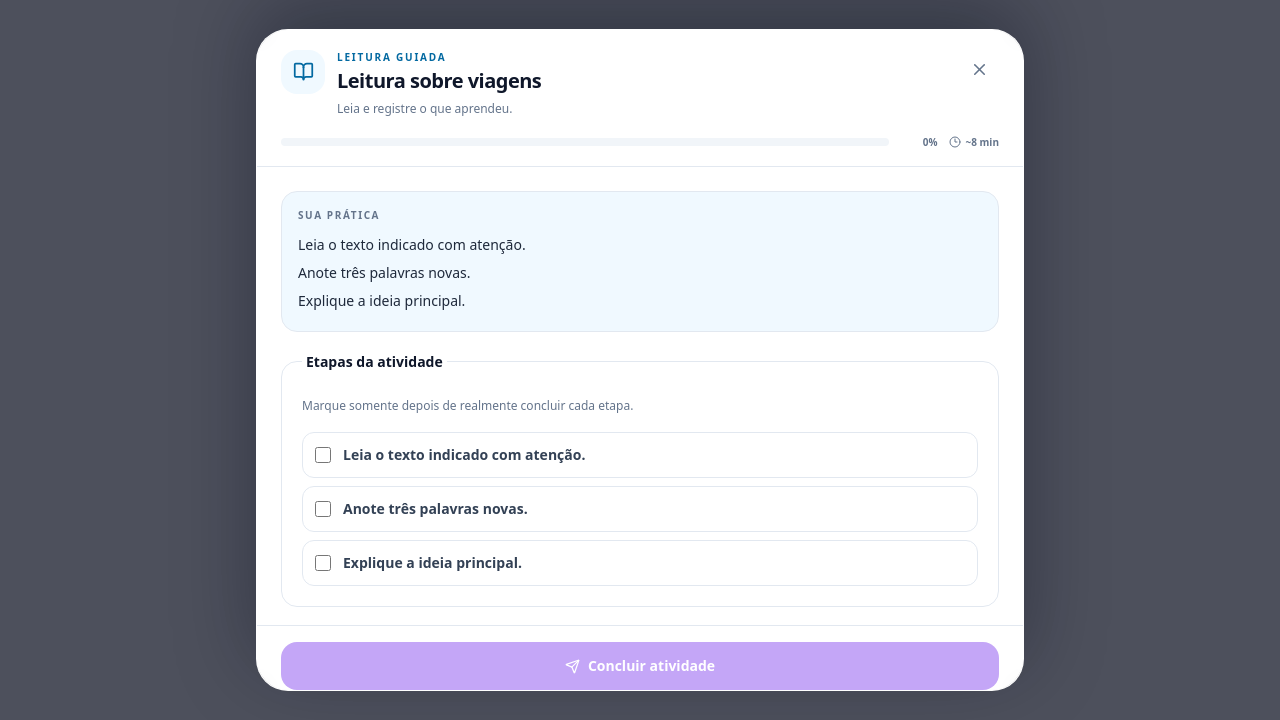
ComplementaryActivityPlayer › turns legacy content into evidence instead of allowing blind completion
Expected: the dialog "Leitura sobre viagens" is shown, x1=256 y1=29 x2=1024 y2=691
Expected: the text "~8 min" is shown, x1=950 y1=135 x2=999 y2=150
Click the checkbox labelled "Leia o texto indicado com atenção.". click: (323,455)
box: x1=315 y1=447 x2=331 y2=463
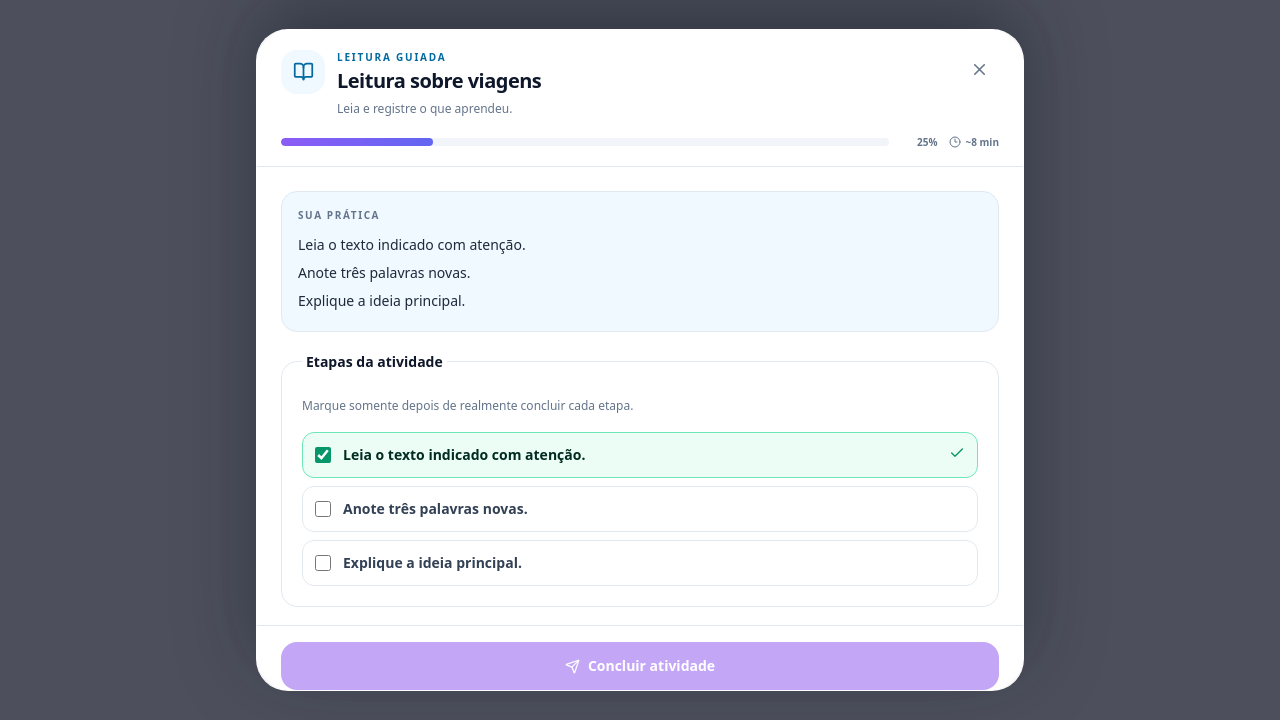
Click the checkbox labelled "Anote três palavras novas.". click: (323,509)
box: x1=315 y1=501 x2=331 y2=517
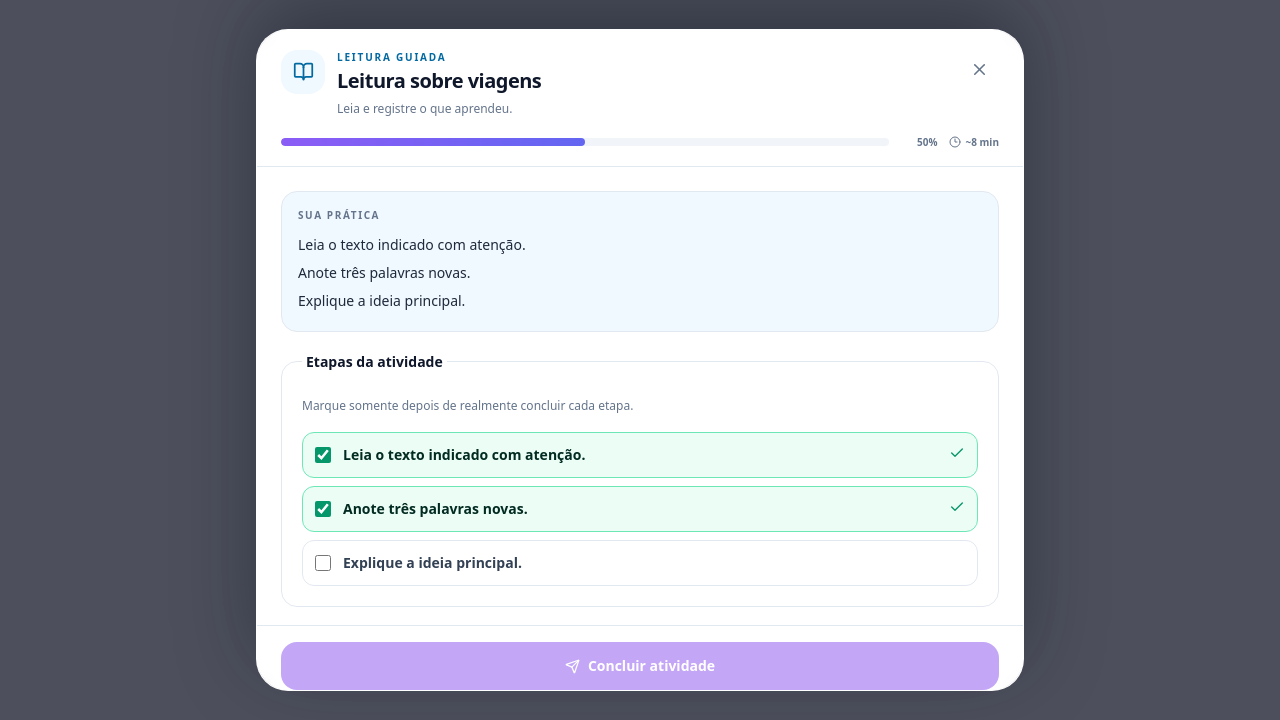
Click the checkbox labelled "Explique a ideia principal.". click: (323,563)
box: x1=315 y1=555 x2=331 y2=571
(page scrolled)
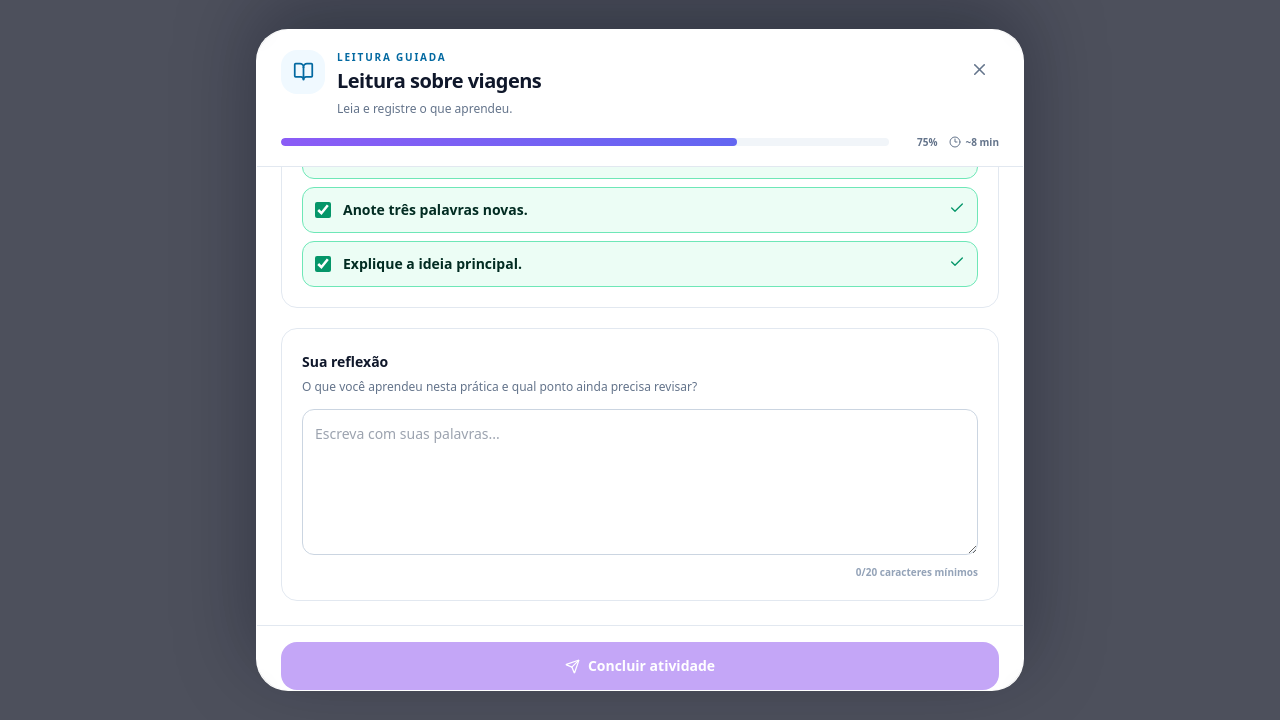
Type "Curta demais" into the text box labelled "Sua reflexão". click: (640,482)
box: x1=302 y1=409 x2=978 y2=555
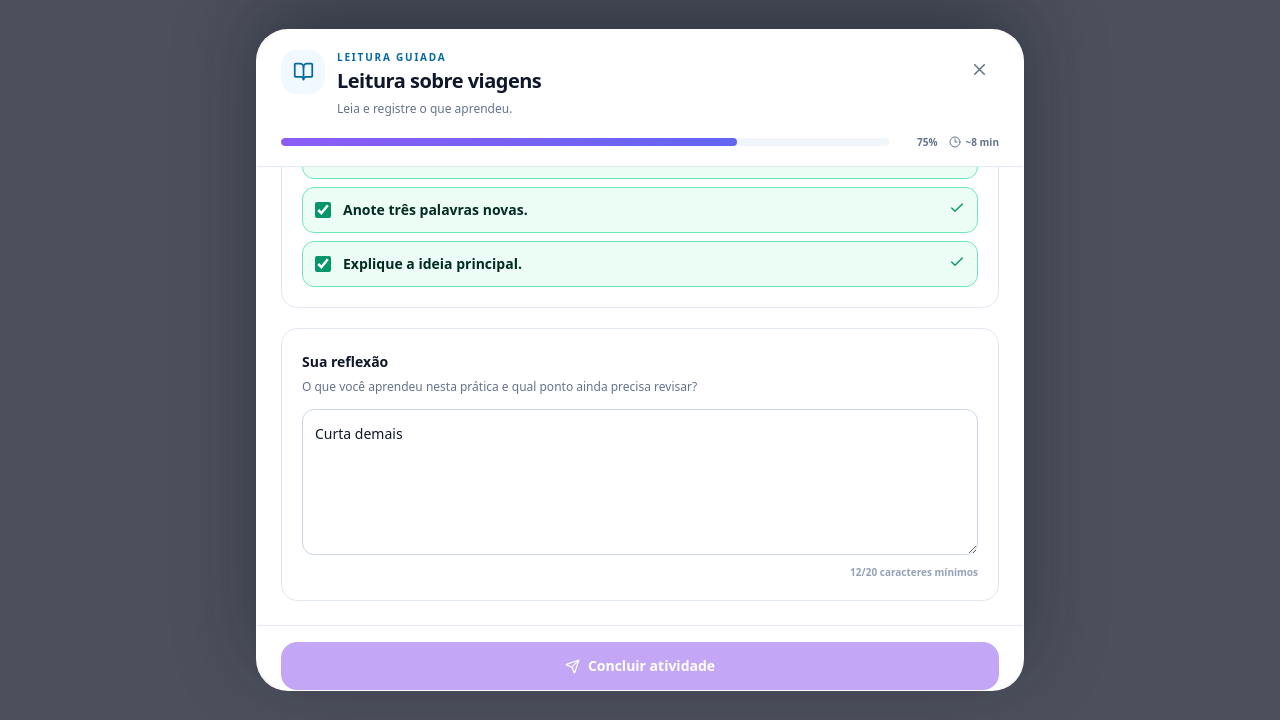
Expected: the button "Concluir atividade" is disabled, x1=281 y1=642 x2=999 y2=690
Replace the text in the text box labelled "Sua reflexão" with "Aprendi novas palavras e preciso revisar a ideia principal.". click: (640,482)
box: x1=302 y1=409 x2=978 y2=555
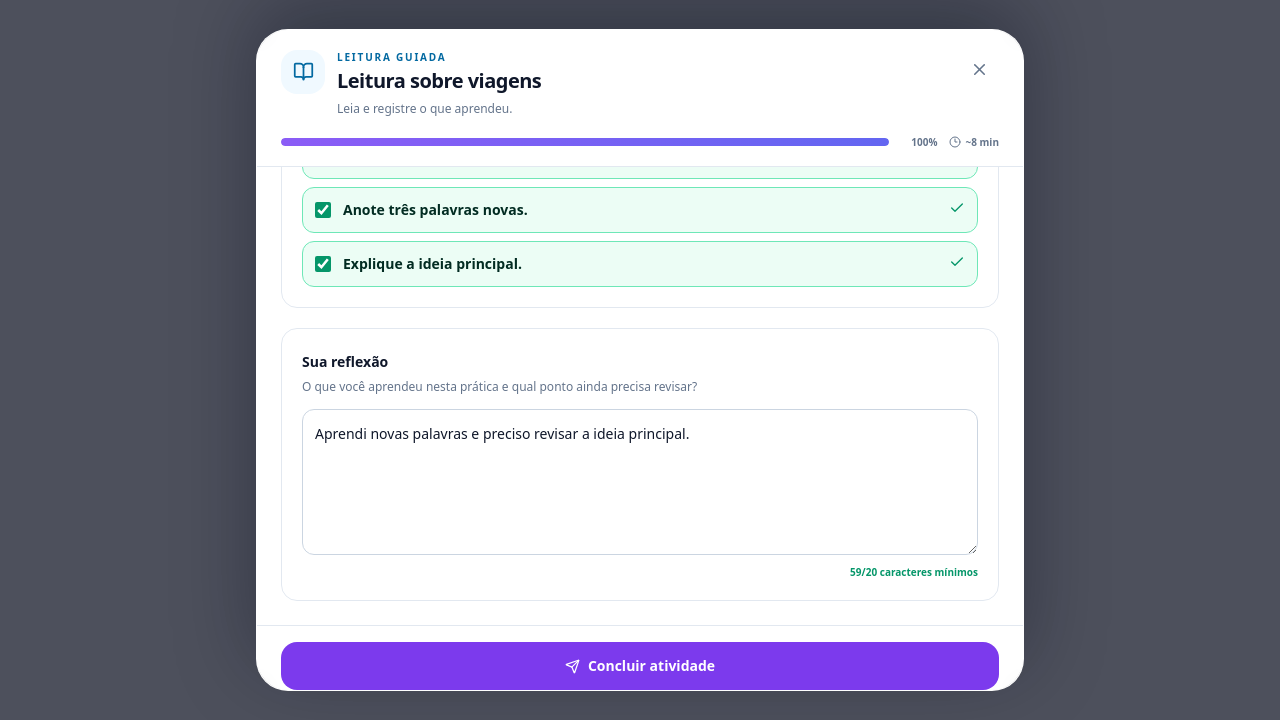
Now the button "Concluir atividade" is enabled
Click the button "Concluir atividade". click: (640,666)
box: x1=281 y1=642 x2=999 y2=690
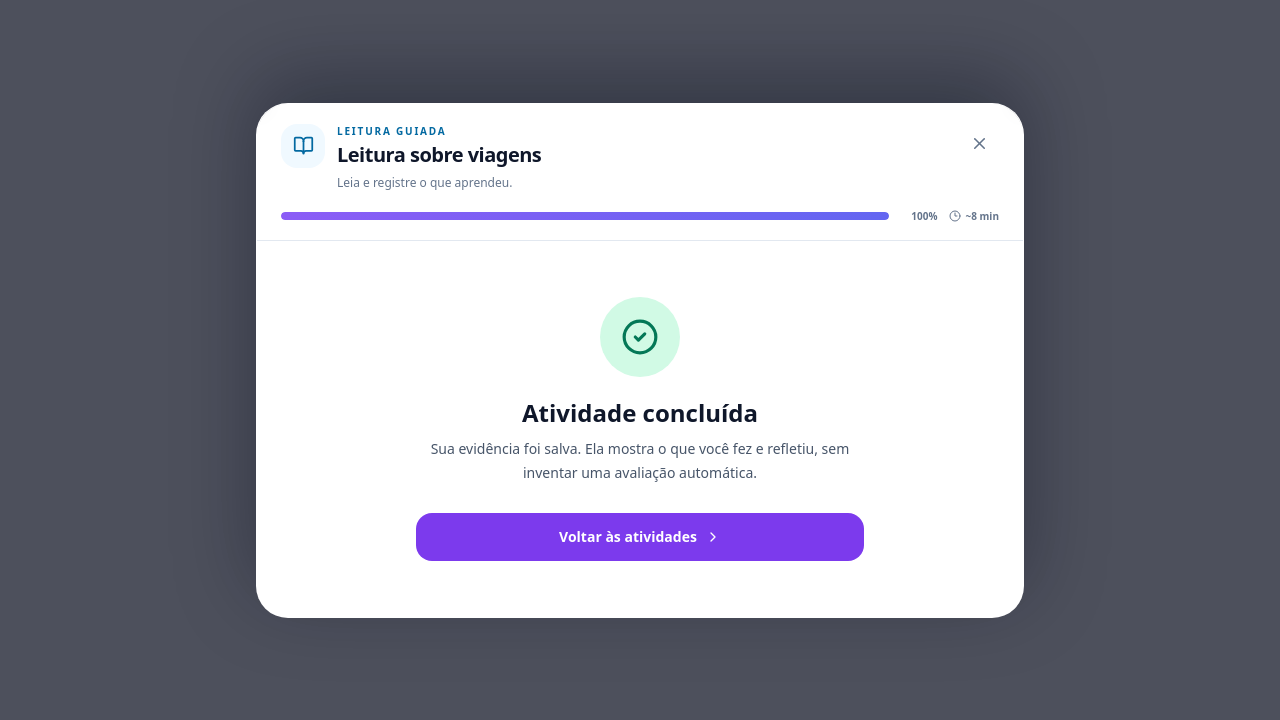
Now the text "sem inventar uma avaliação automática" is shown, box x1=431 y1=438 x2=849 y2=482
